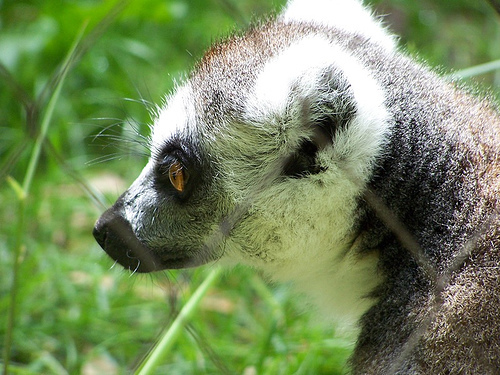cat: (90, 1, 499, 374)
